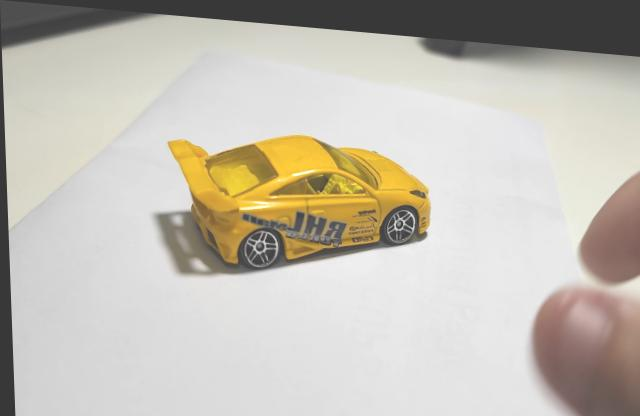07_RHLTURBO: (167, 130, 429, 266)
